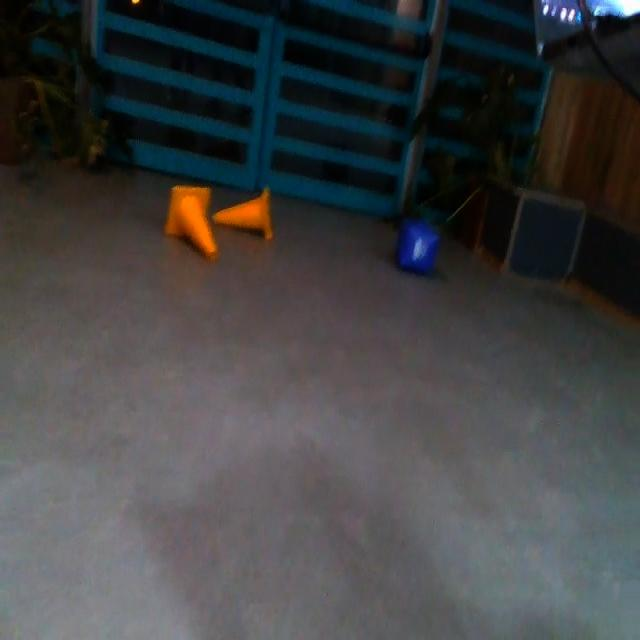cone: (165, 185, 222, 262), (210, 182, 278, 240)
cube: (398, 218, 442, 280)
